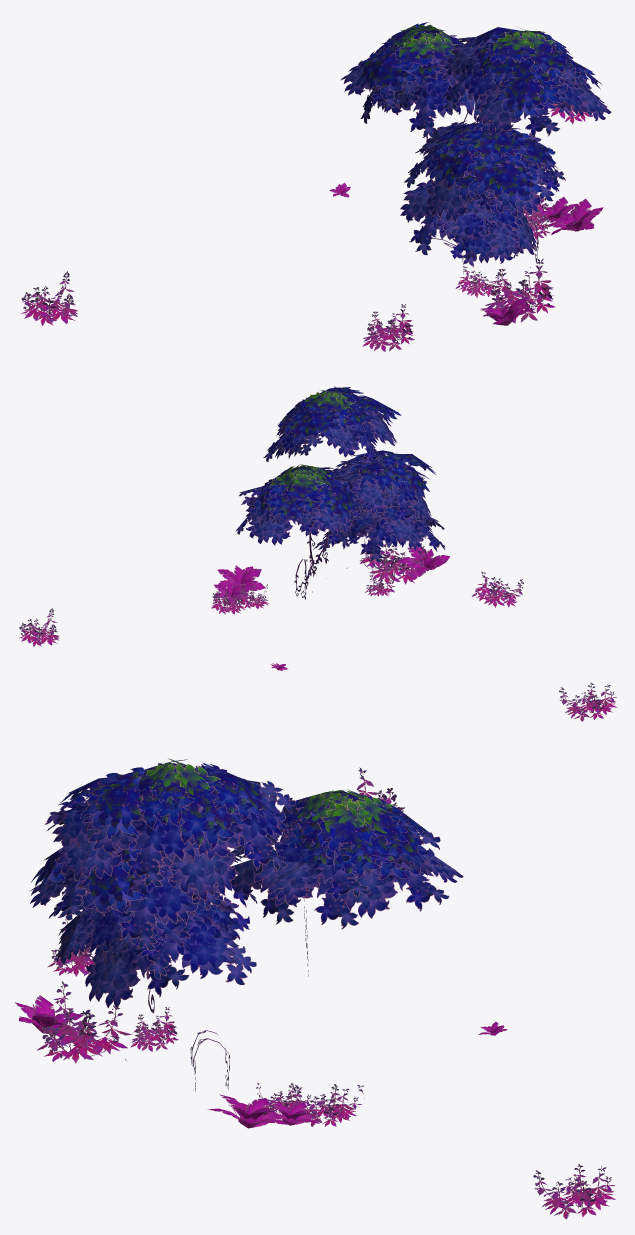
File: zhibei2_1.fbx
The picture shows the model from 3 angles, top to bottom: view 1: azimuth 30°, elevation 25°; view 2: azimuth 150°, elevation 25°; view 3: azimuth 270°, elevation 25°; orthographic projection. The views are drawn at different scales.
Parts seen in each view (by area): view 1: zhibei2_1; view 2: zhibei2_1; view 3: zhibei2_1.
Boxes of the visible parts, left/top/right/bottom form: zhibei2_1: left=21, top=22, right=611, bottom=351; zhibei2_1: left=19, top=386, right=617, bottom=721; zhibei2_1: left=15, top=758, right=615, bottom=1219.
Size of the model in its own units: 3793 by 1364 by 2328.
